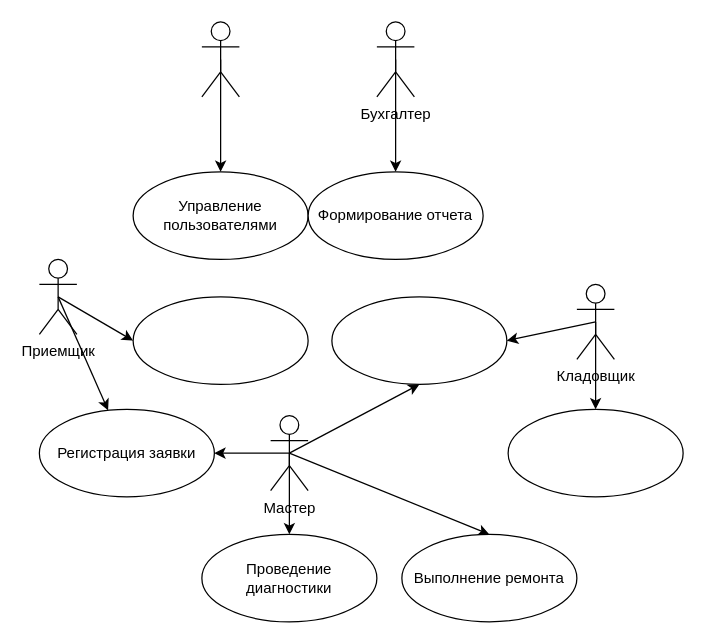
The diagram is 705 pixels wide and 644 high, and some of its shapes have lost their labels. Here are the shapes that lost their labels. From the top down, the centre of each, then its label:
At [220,59]: "Администратор".
At [220,340]: "Выдача устройства".
At [419,340]: "Списание запчастей".
At [595,452]: "Приход запчастей".
